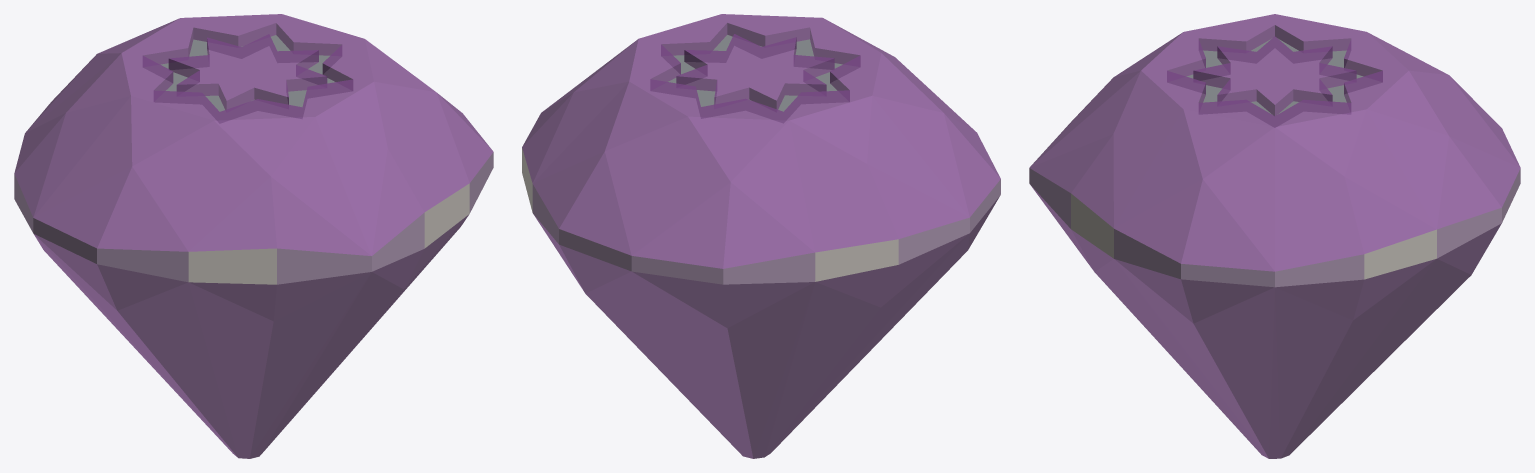
The model's file is loose-faceted-gem-d88a5b.glb.
3 renders of one model, left to right at view 1: azimuth 30°, elevation 25°; view 2: azimuth 150°, elevation 25°; view 3: azimuth 270°, elevation 25°, orthographic.
Visible parts, largest first — view 1: loose-faceted-gem-polished, loose-faceted-gem-frosted; view 2: loose-faceted-gem-polished, loose-faceted-gem-frosted; view 3: loose-faceted-gem-polished, loose-faceted-gem-frosted.
Boxes of the visible parts, box(x1,y1,x2,y2) form: loose-faceted-gem-polished: box(14, 14, 493, 458); loose-faceted-gem-frosted: box(14, 35, 493, 284); loose-faceted-gem-polished: box(522, 14, 1000, 458); loose-faceted-gem-frosted: box(522, 35, 1000, 284); loose-faceted-gem-polished: box(1029, 14, 1520, 458); loose-faceted-gem-frosted: box(1029, 37, 1520, 287).
Bounding box in the file's own units: 0.12 × 0.103 × 0.12.
